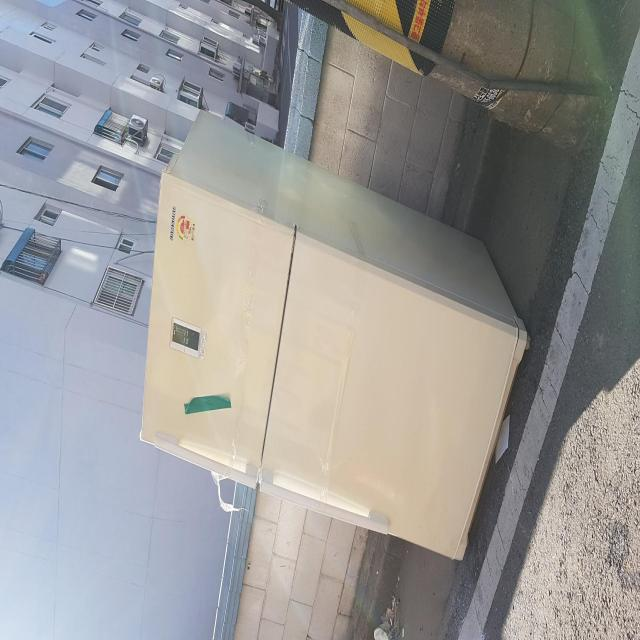refrigerator: (136, 110, 529, 560)
